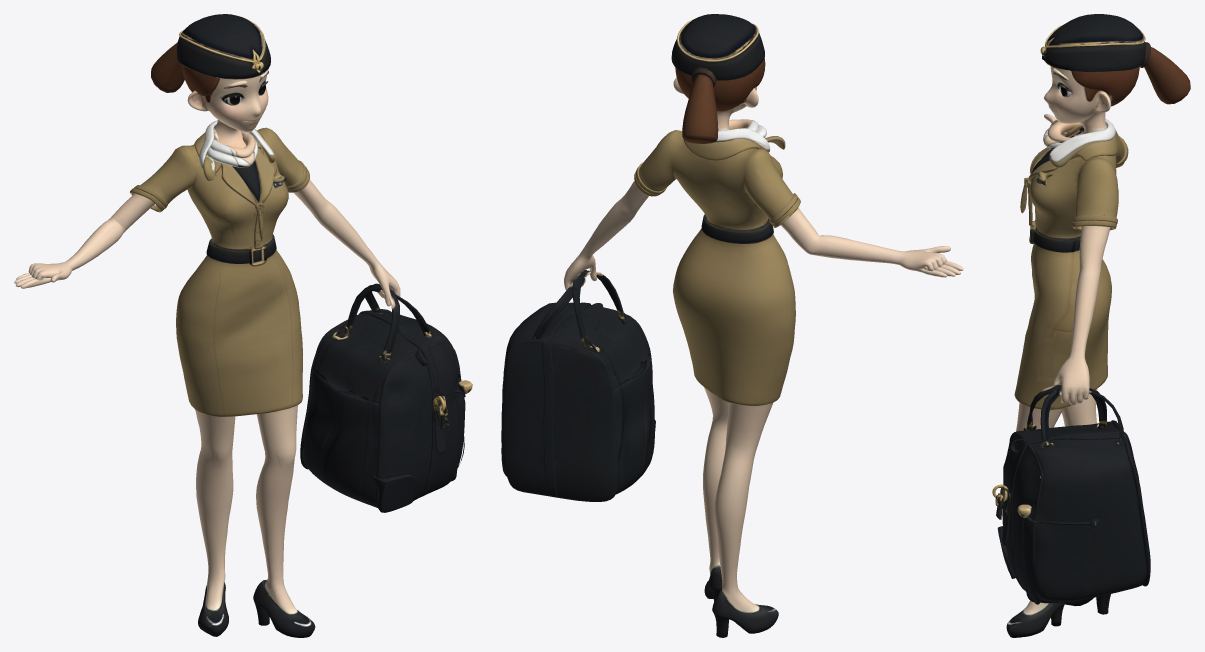
File: toonstudio_flight_attendant.glb
3 renders of one model, left to right at view 1: azimuth 30°, elevation 25°; view 2: azimuth 150°, elevation 25°; view 3: azimuth 270°, elevation 25°, orthographic. The views are drawn at different scales.
Parts seen in each view (by area): view 1: d2566fd4_b39f_4fac_9528_e7b43f5fb7ea; view 2: d2566fd4_b39f_4fac_9528_e7b43f5fb7ea; view 3: d2566fd4_b39f_4fac_9528_e7b43f5fb7ea.
Boxes of the visible parts, x1,y1,x2,y2 form: d2566fd4_b39f_4fac_9528_e7b43f5fb7ea: [14, 14, 472, 637]; d2566fd4_b39f_4fac_9528_e7b43f5fb7ea: [501, 14, 963, 637]; d2566fd4_b39f_4fac_9528_e7b43f5fb7ea: [992, 14, 1190, 637].
Bounding box in the file's own units: 1.3 × 1.7 × 0.5124.
Materials: 1 (1 with a texture image).
